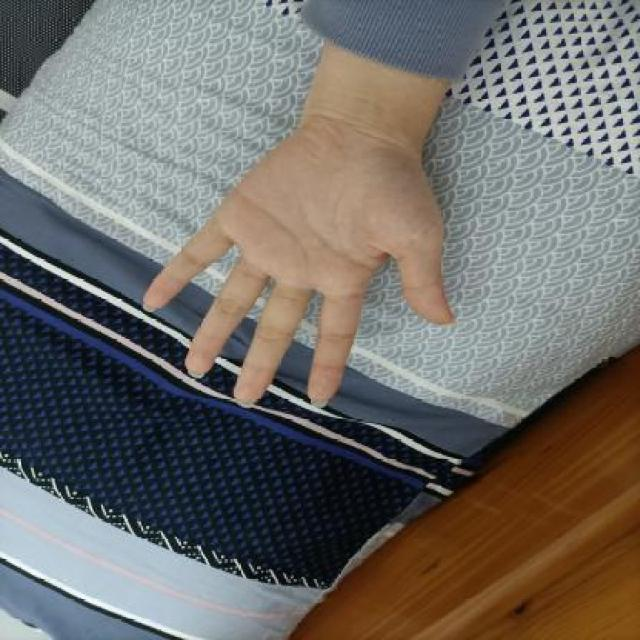bare_hand: (118, 120, 474, 432)
